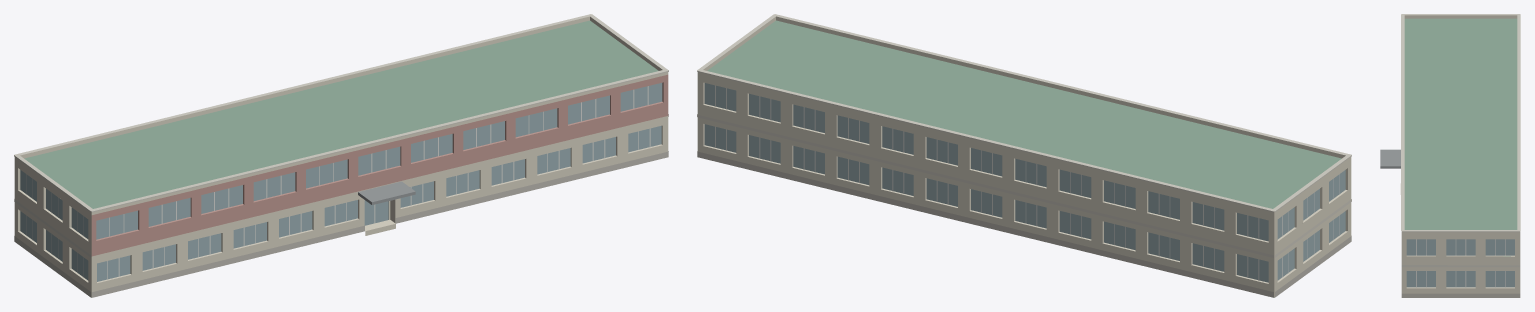
The picture shows the model from 3 angles, left to right: view 1: azimuth 30°, elevation 25°; view 2: azimuth 150°, elevation 25°; view 3: azimuth 270°, elevation 25°; orthographic projection. The views are drawn at different scales.
Visible parts, largest first — view 1: b115951828__roof, b115951828__glass, b115951828__wall, b115951828__wall2, b115951828__parapet, b115951828__trim, b115951828__base, b115951828__frame, b115951828__canopy; view 2: b115951828__roof, b115951828__wall, b115951828__glass, b115951828__trim, b115951828__parapet, b115951828__base, b115951828__frame; view 3: b115951828__roof, b115951828__wall, b115951828__glass, b115951828__trim, b115951828__parapet, b115951828__base, b115951828__canopy, b115951828__frame.
Boxes of the visible parts, x1=… form: b115951828__roof: x1=24, y1=20, x2=658, y2=297; b115951828__glass: x1=20, y1=83, x2=662, y2=281; b115951828__wall: x1=14, y1=116, x2=668, y2=297; b115951828__wall2: x1=91, y1=74, x2=668, y2=256; b115951828__parapet: x1=14, y1=16, x2=668, y2=214; b115951828__trim: x1=14, y1=14, x2=668, y2=257; b115951828__base: x1=14, y1=151, x2=668, y2=297; b115951828__frame: x1=26, y1=86, x2=650, y2=279; b115951828__canopy: x1=358, y1=181, x2=415, y2=204; b115951828__roof: x1=707, y1=20, x2=1341, y2=297; b115951828__wall: x1=697, y1=74, x2=1351, y2=297; b115951828__glass: x1=704, y1=83, x2=1345, y2=282; b115951828__trim: x1=697, y1=14, x2=1351, y2=257; b115951828__parapet: x1=697, y1=16, x2=1351, y2=215; b115951828__base: x1=697, y1=151, x2=1351, y2=297; b115951828__frame: x1=715, y1=85, x2=1339, y2=280; b115951828__roof: x1=1404, y1=18, x2=1517, y2=256; b115951828__wall: x1=1401, y1=234, x2=1520, y2=293; b115951828__glass: x1=1406, y1=239, x2=1514, y2=287; b115951828__trim: x1=1401, y1=14, x2=1520, y2=267; b115951828__parapet: x1=1401, y1=15, x2=1520, y2=234; b115951828__base: x1=1401, y1=293, x2=1520, y2=297; b115951828__canopy: x1=1380, y1=149, x2=1400, y2=168; b115951828__frame: x1=1416, y1=239, x2=1505, y2=287.
Bounding box in the file's own units: 52.8 × 7.95 × 14.43.
